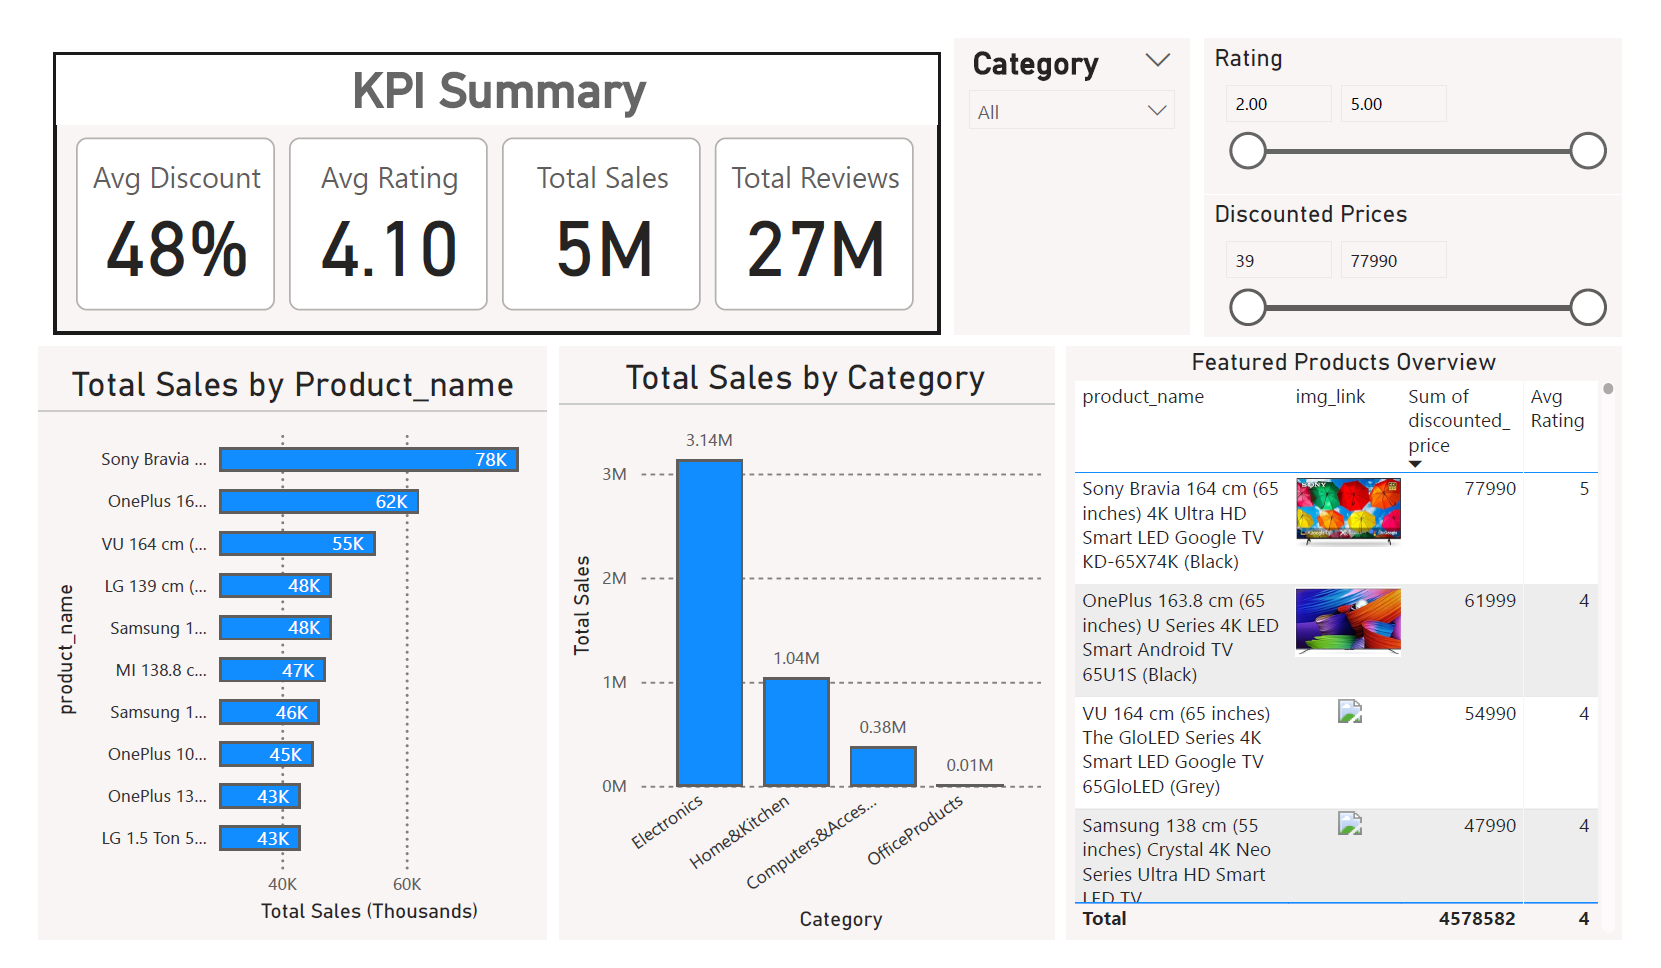

The page's visual inventory and layout, read from the dashboard file:
{"tool":"powerbi","page":{"name":"DASHBOARD","canvas":[1100,627],"ordinal":0},"visuals":[{"type":"cardVisual","title":"KPI Summary","fields":{"Data":["amazon.Avg Discount","amazon.Avg Rating","amazon.Total Sales","amazon.Total Reviews"]},"box":[10,10,616.7,195.6],"z":0},{"type":"barChart","title":"Total Sales by Product_name","fields":{"Category":["amazon.product_name"],"Y":["amazon.Total Sales"]},"box":[0,214.4,353.3,412.2],"z":1000},{"type":"columnChart","title":"Total Sales by Category","fields":{"Category":["amazon.category.major"],"Y":["amazon.Total Sales"]},"box":[362.2,214.4,344.4,412.2],"z":2000},{"type":"slicer","fields":{"Values":["amazon.category"]},"box":[636.7,0,163.3,205.6],"z":3000},{"type":"slicer","title":"Discounted Prices","fields":{"Values":["amazon.discounted_price"]},"box":[810,108.9,290,97.8],"z":4000},{"type":"slicer","title":"Rating","fields":{"Values":["amazon.rating"]},"box":[810,0,290,107.8],"z":5000},{"type":"tableEx","title":"Featured Products Overview","fields":{"Values":["amazon.product_name","amazon.img_link","Sum(amazon.discounted_price)","amazon.Avg Rating"]},"box":[714.4,214.4,385.6,412.2],"z":6000}]}

Visuals, with their boxes in screenshot pixels (x1, y1, x2, y2), scaled from the page's 1100x627 canvas onto the 1661x968 screenshot:
"KPI Summary" cardVisual: select_region(15, 15, 946, 317)
"Total Sales by Product_name" barChart: select_region(0, 331, 533, 967)
"Total Sales by Category" columnChart: select_region(547, 331, 1067, 967)
slicer - amazon.category: select_region(961, 0, 1208, 317)
"Discounted Prices" slicer: select_region(1223, 168, 1660, 319)
"Rating" slicer: select_region(1223, 0, 1660, 166)
"Featured Products Overview" tableEx: select_region(1079, 331, 1660, 967)
